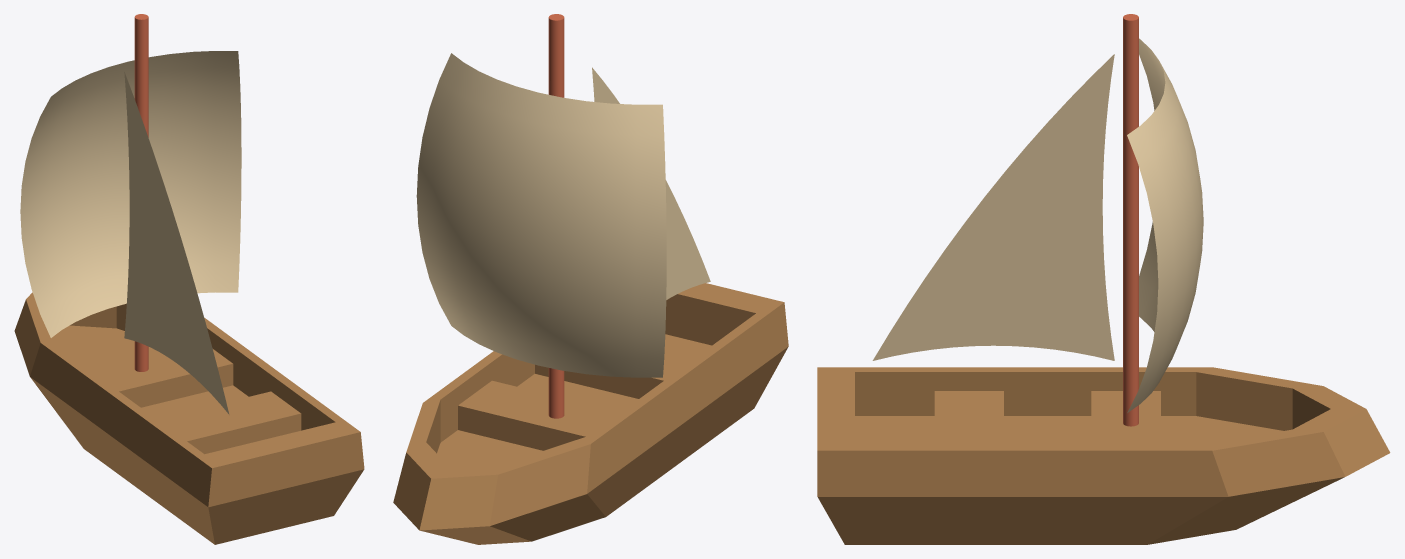
Rendered from Boat.glb.
The picture shows the model from 3 angles, left to right: view 1: azimuth 30°, elevation 25°; view 2: azimuth 150°, elevation 25°; view 3: azimuth 270°, elevation 25°; orthographic projection. The views are drawn at different scales.
Visible parts, largest first — view 1: mergedBlocks(Clone); view 2: mergedBlocks(Clone); view 3: mergedBlocks(Clone).
Boxes of the visible parts, left/top/right/bottom form: mergedBlocks(Clone): left=14, top=14, right=364, bottom=544; mergedBlocks(Clone): left=393, top=14, right=788, bottom=544; mergedBlocks(Clone): left=817, top=14, right=1390, bottom=544.
Size of the model in its own units: 1.82 by 3.34 by 3.55.
